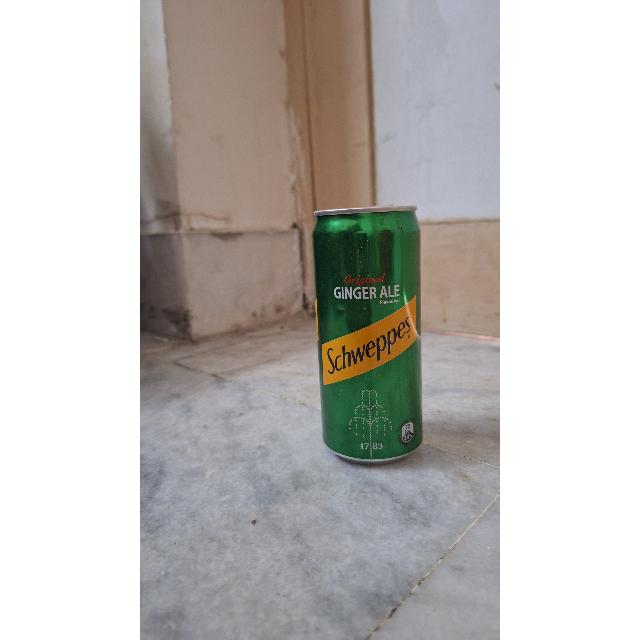Schweppes: (302, 201, 434, 467)
